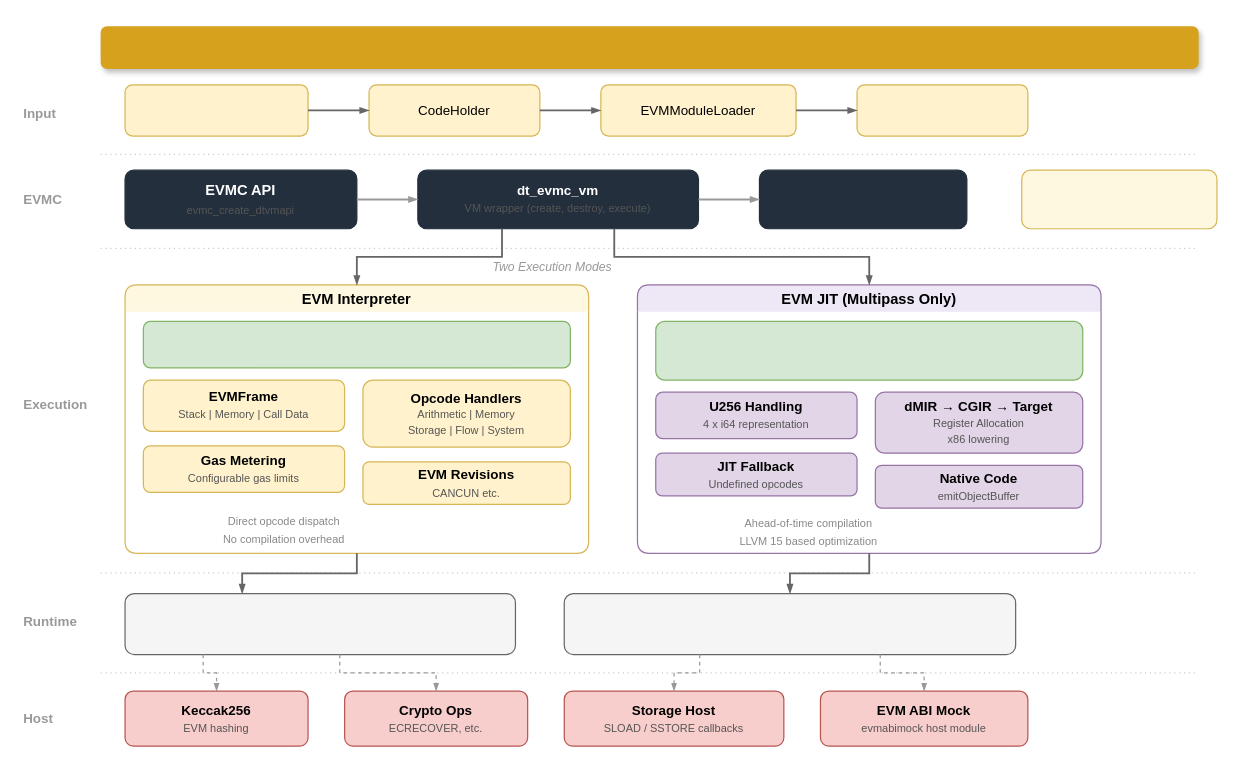
Image size: 1238x767. Some labels were removed from this diagram. The shapes that lost their labels are listed below. From the top down, each one's centre as x and y in pixels, then its label:
the point at 650,49: DTVM - EVM Execution Path
the point at 216,110: EVM Bytecode
the point at 942,110: EVMModule
the point at 862,199: evmc::Host wrapped_host.h
the point at 1119,199: EVMBytecodeCache JUMPDEST analysis
the point at 356,344: evm::BaseInterpreter callEVMInInterpMode
the point at 869,350: EVMMirBuilder EVMFrontendContext callEVMInJITMode
the point at 319,623: EVMInstance Memory | Stack | Gas | Message Stack
the point at 789,623: EVM Dispatch callEVMMain / callEVMInInterpMode / callEVMInJITMode
